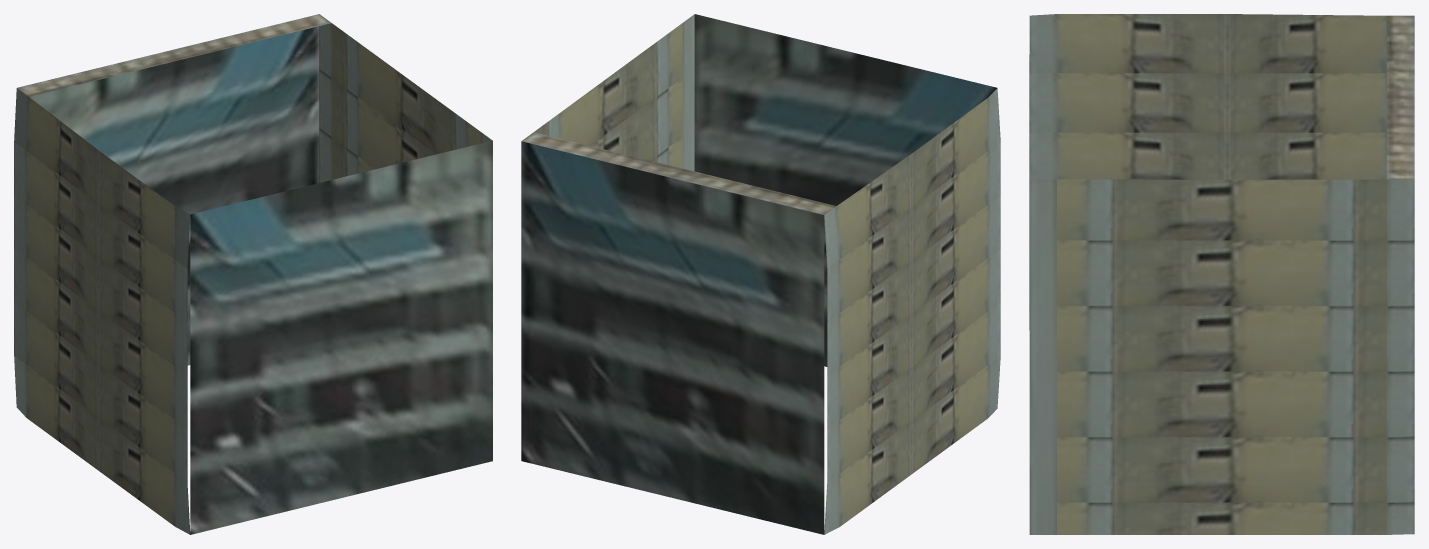
3 renders of one model, left to right at view 1: azimuth 30°, elevation 25°; view 2: azimuth 150°, elevation 25°; view 3: azimuth 270°, elevation 25°, orthographic. The views are drawn at different scales.
Parts seen in each view (by area): view 1: orto-edificio22-completo.052; view 2: orto-edificio22-completo.052; view 3: orto-edificio22-completo.052.
Boxes of the visible parts, left/top/right/bottom form: orto-edificio22-completo.052: left=14, top=14, right=492, bottom=534; orto-edificio22-completo.052: left=521, top=14, right=1000, bottom=534; orto-edificio22-completo.052: left=1029, top=14, right=1414, bottom=534.
Size of the model in its own units: 2.08 by 2.09 by 2.05.
2 materials, 2 textured.
